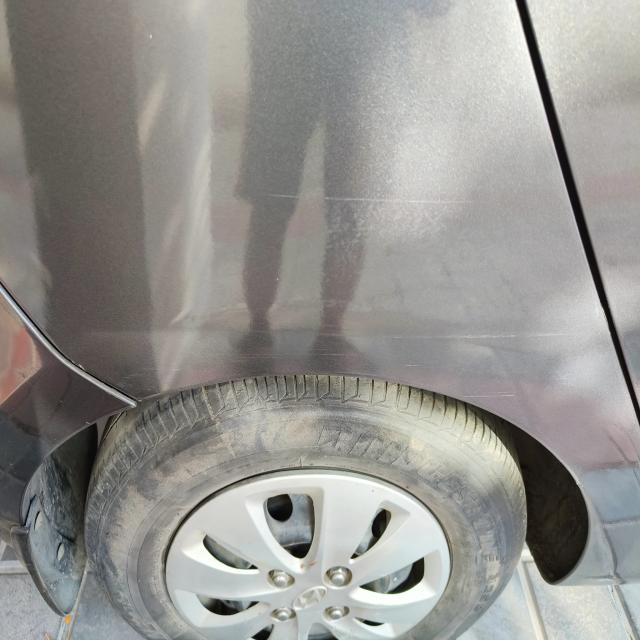scratch: (266, 188, 474, 212), (330, 329, 570, 344), (465, 390, 517, 404), (399, 359, 429, 375)
